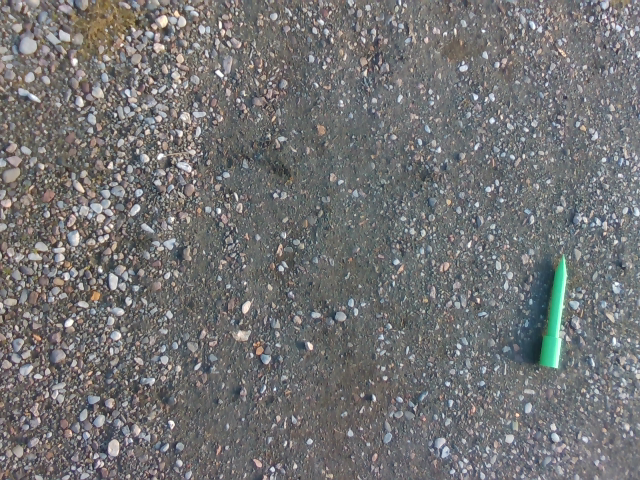Probe: (535, 248, 572, 372)
